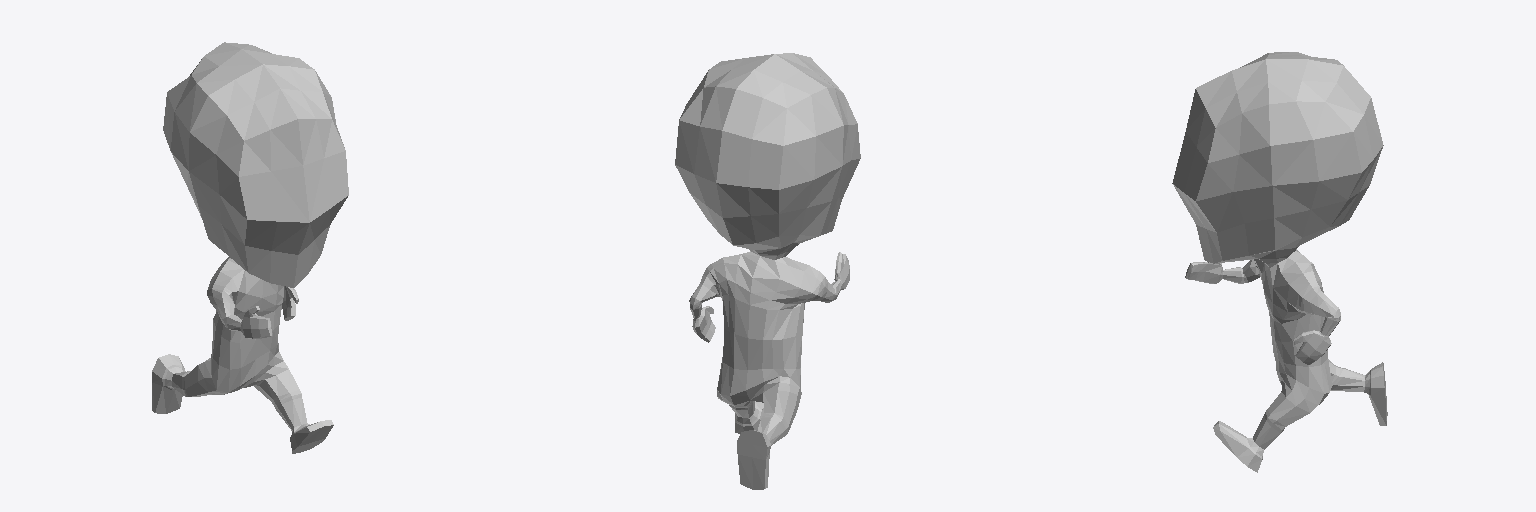
The model's file is char_000001.obj.
3 views of the same model, side by side, from view 1: azimuth 30°, elevation 25°; view 2: azimuth 150°, elevation 25°; view 3: azimuth 270°, elevation 25° (orthographic).
Visible parts, largest first — view 1: lp_guy_mesh_Cube; view 2: lp_guy_mesh_Cube; view 3: lp_guy_mesh_Cube.
Part boxes in pixels (bbox=[...]): lp_guy_mesh_Cube: bbox=[152, 42, 348, 453]; lp_guy_mesh_Cube: bbox=[675, 53, 860, 489]; lp_guy_mesh_Cube: bbox=[1172, 52, 1387, 472].
Size of the model in its own units: 0.7344 by 1.94 by 0.9622.